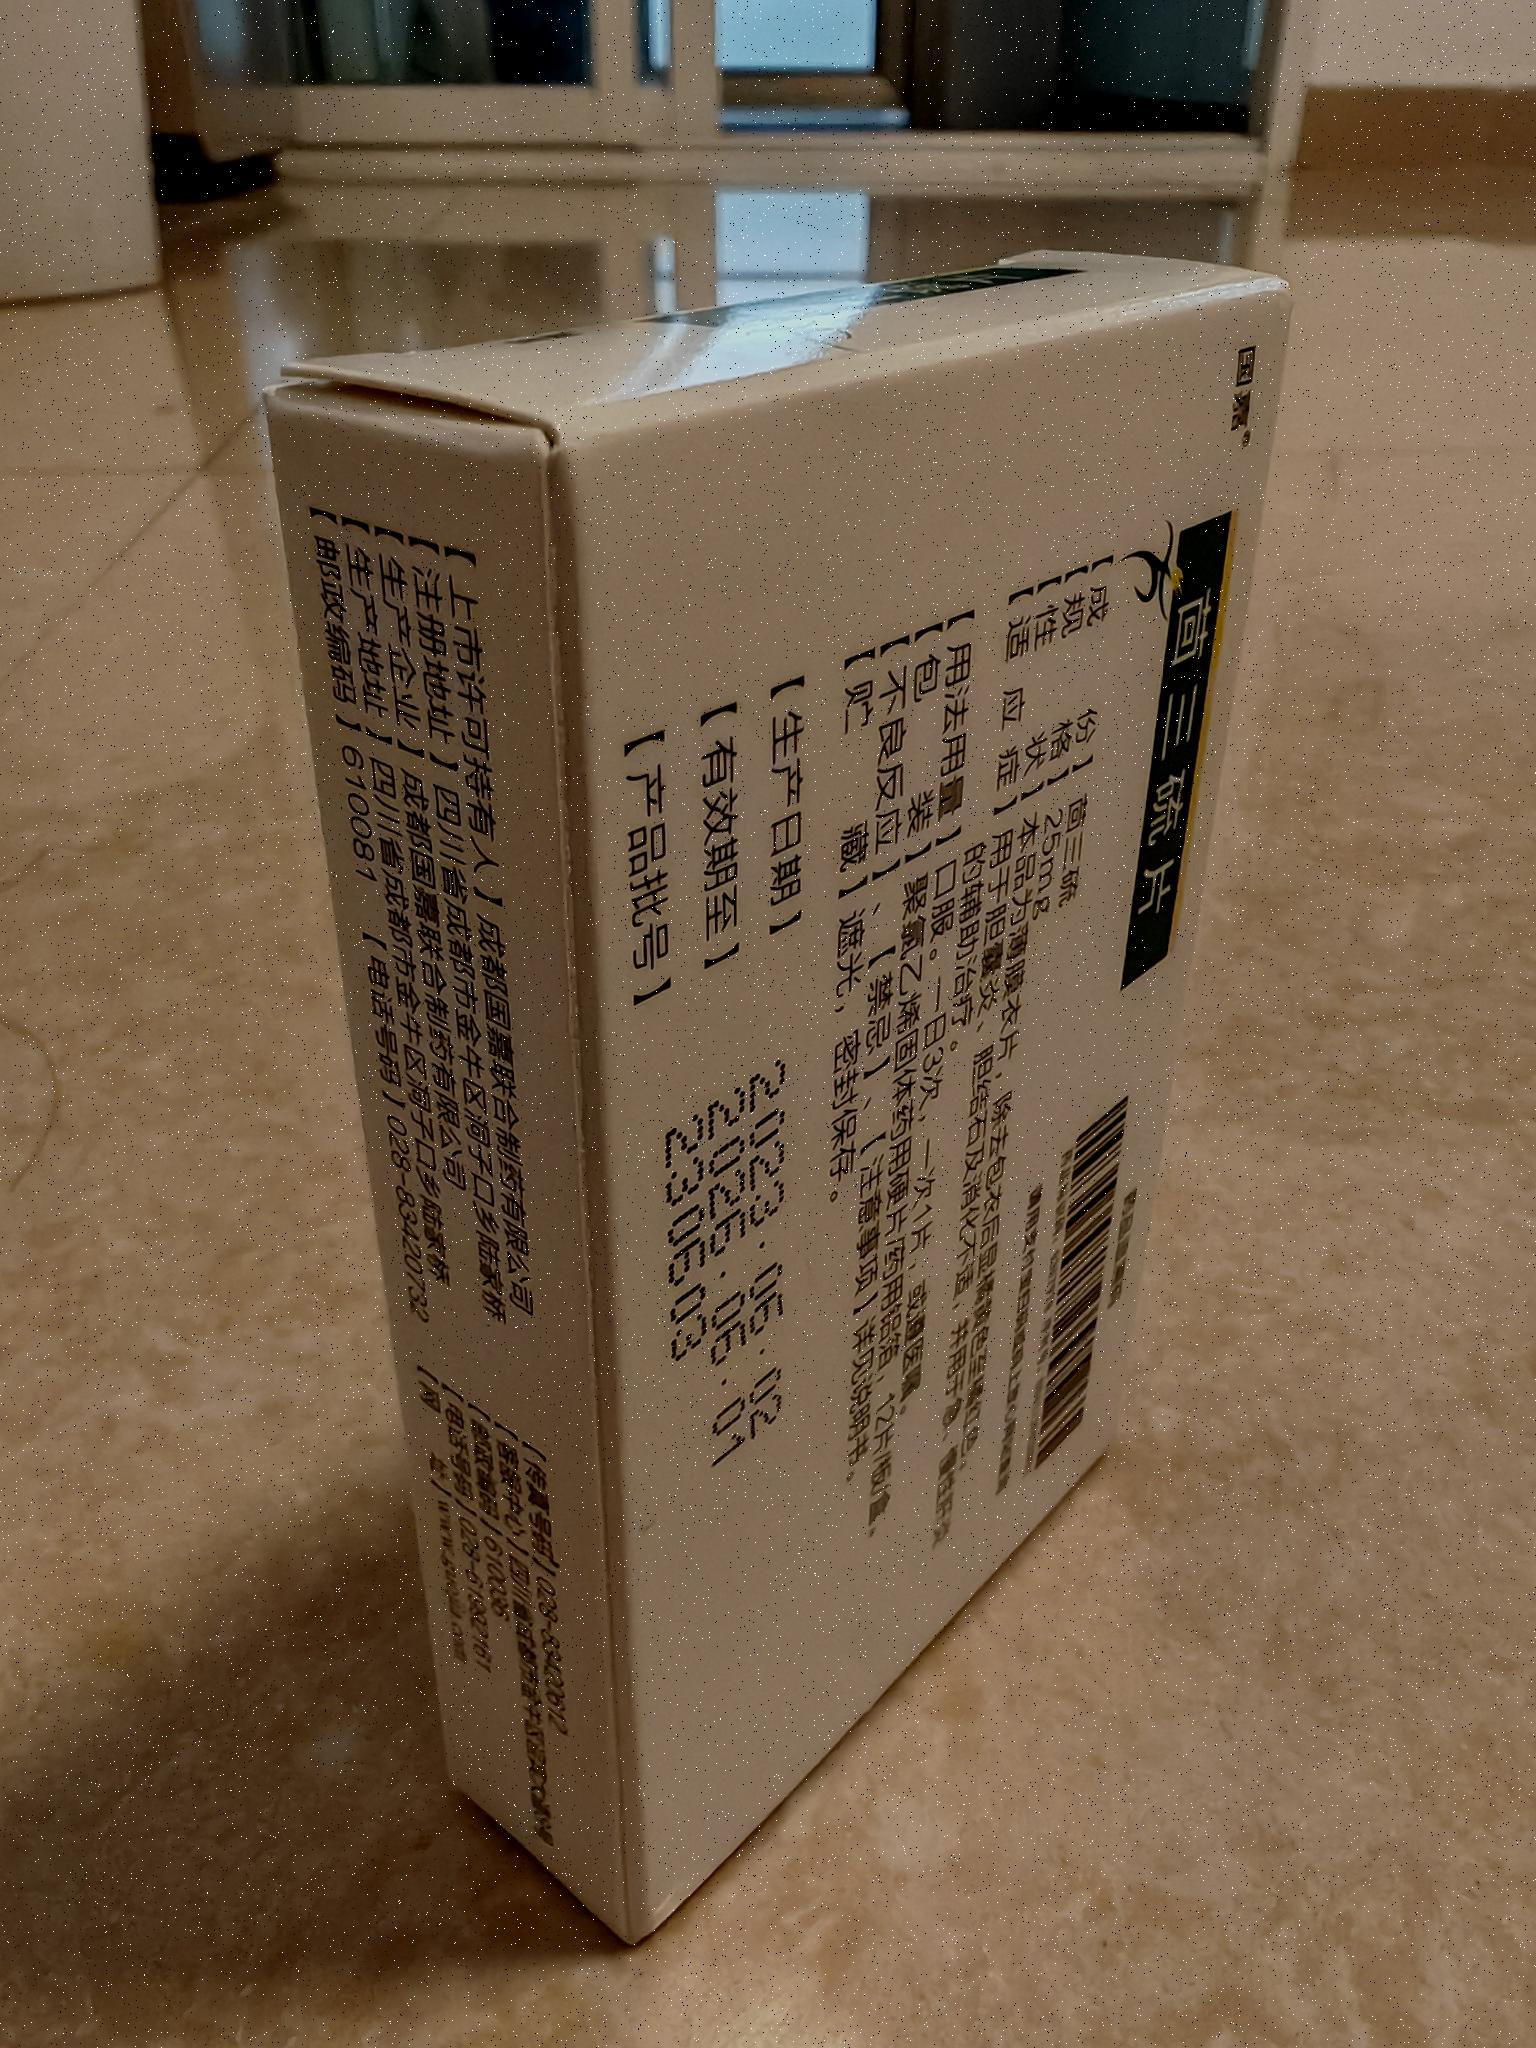Medicine4: (236, 227, 1333, 1972)
